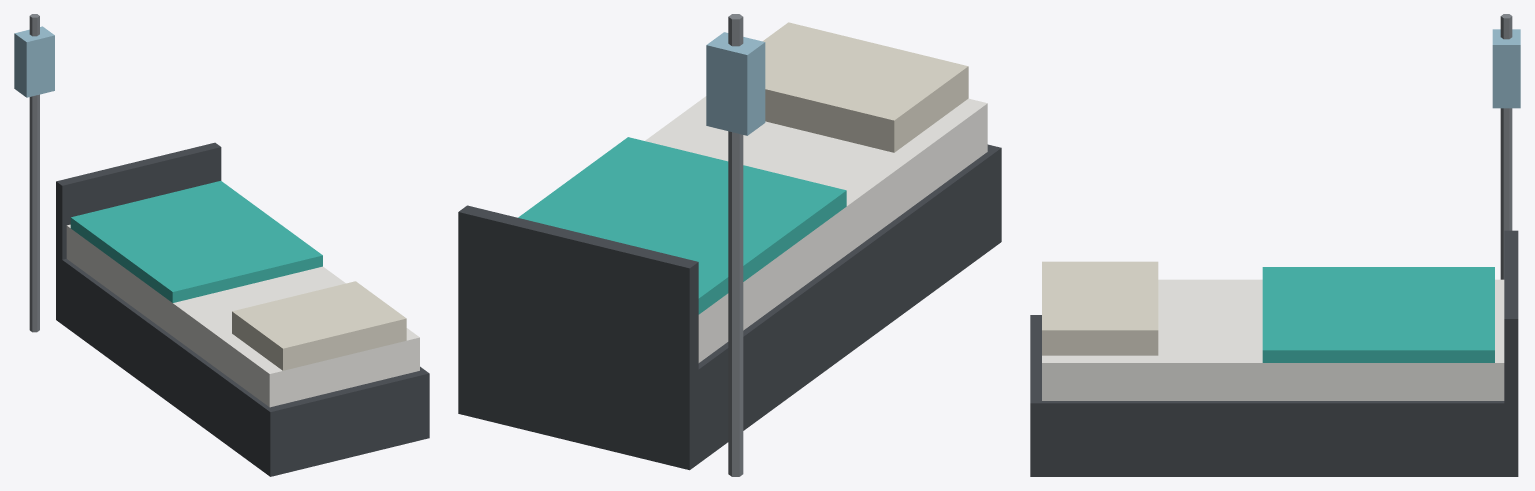
Rendered from interior.patient-bed.glb.
3 renders of one model, left to right at view 1: azimuth 30°, elevation 25°; view 2: azimuth 150°, elevation 25°; view 3: azimuth 270°, elevation 25°, orthographic. The views are drawn at different scales.
Parts seen in each view (by area): view 1: interior.patient-bed; view 2: interior.patient-bed; view 3: interior.patient-bed.
Part boxes in pixels (bbox=[...]): interior.patient-bed: bbox=[14, 14, 429, 476]; interior.patient-bed: bbox=[458, 14, 1001, 476]; interior.patient-bed: bbox=[1030, 14, 1520, 476].
Size of the model in its own units: 1.13 by 1.7 by 2.11.
